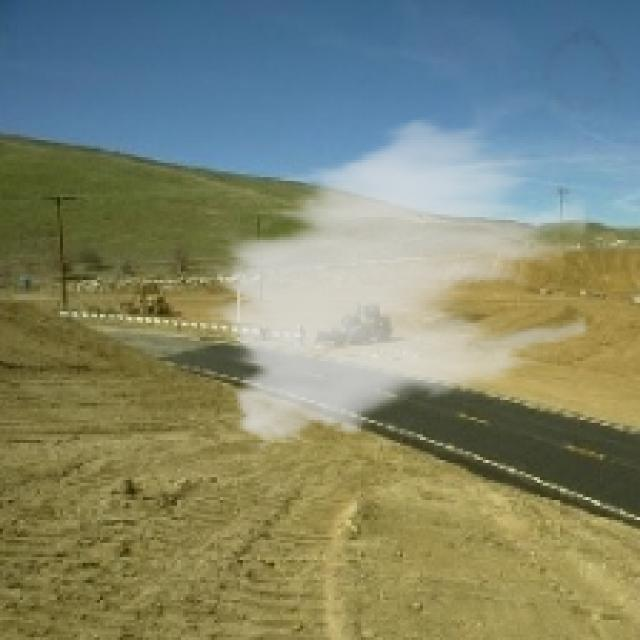smoke: (203, 109, 588, 460)
